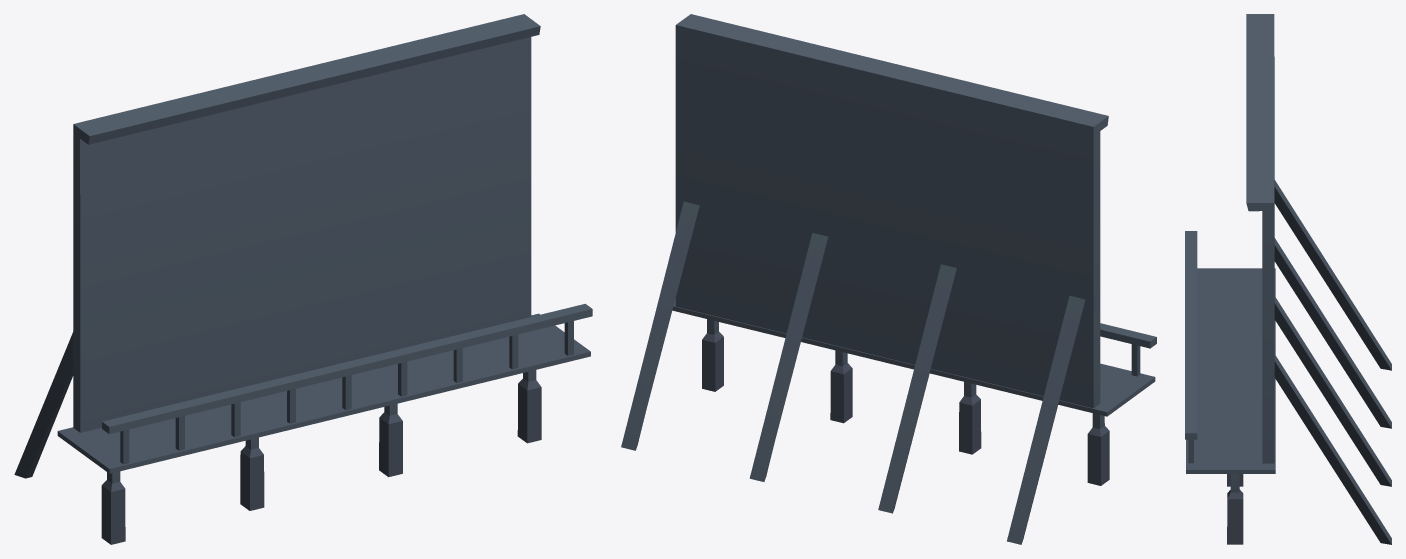
Rendered from Bilboard_1_D.glb.
3 renders of one model, left to right at view 1: azimuth 30°, elevation 25°; view 2: azimuth 150°, elevation 25°; view 3: azimuth 270°, elevation 25°, orthographic. The views are drawn at different scales.
Visible parts, largest first — view 1: Bilboard_1_D; view 2: Bilboard_1_D; view 3: Bilboard_1_D.
Boxes of the visible parts, x1,y1,x2,y2 form: Bilboard_1_D: (14, 14, 592, 544); Bilboard_1_D: (621, 14, 1156, 544); Bilboard_1_D: (1185, 14, 1391, 544).
Size of the model in its own units: 2.98 by 2.38 by 1.29.
Materials: 1 (1 with a texture image).
